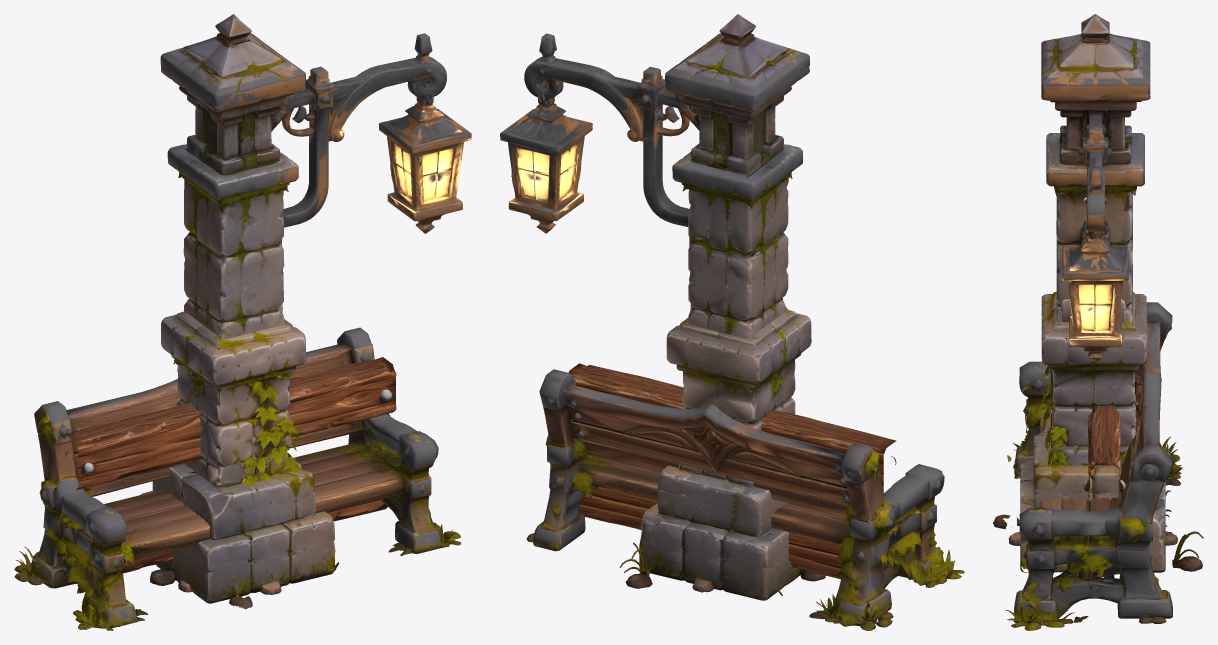
The model's file is HubDecor.gltf.
3 views of the same model, side by side, from view 1: azimuth 30°, elevation 25°; view 2: azimuth 150°, elevation 25°; view 3: azimuth 270°, elevation 25° (orthographic). The views are drawn at different scales.
Visible parts, largest first — view 1: Lantern, Bench, PillarEnd, FenceRail; view 2: Lantern, Bench, PillarEnd, FenceRail; view 3: Lantern, Bench, PillarEnd, FenceRail, PillarTall.
Part boxes in pixels (bbox=[...]): Lantern: bbox=[141, 14, 471, 609]; Bench: bbox=[14, 327, 460, 630]; PillarEnd: bbox=[161, 311, 306, 594]; FenceRail: bbox=[65, 357, 396, 583]; Lantern: bbox=[500, 14, 825, 600]; Bench: bbox=[526, 369, 964, 630]; PillarEnd: bbox=[666, 310, 811, 592]; FenceRail: bbox=[568, 363, 896, 588]; Lantern: bbox=[993, 14, 1203, 572]; Bench: bbox=[1005, 302, 1182, 630]; PillarEnd: bbox=[1009, 291, 1177, 577]; FenceRail: bbox=[1082, 405, 1125, 596]; PillarTall: bbox=[1061, 299, 1125, 322].
Size of the model in its own units: 2.11 by 2.69 by 0.9694.
Materials: 5 (5 with a texture image).
